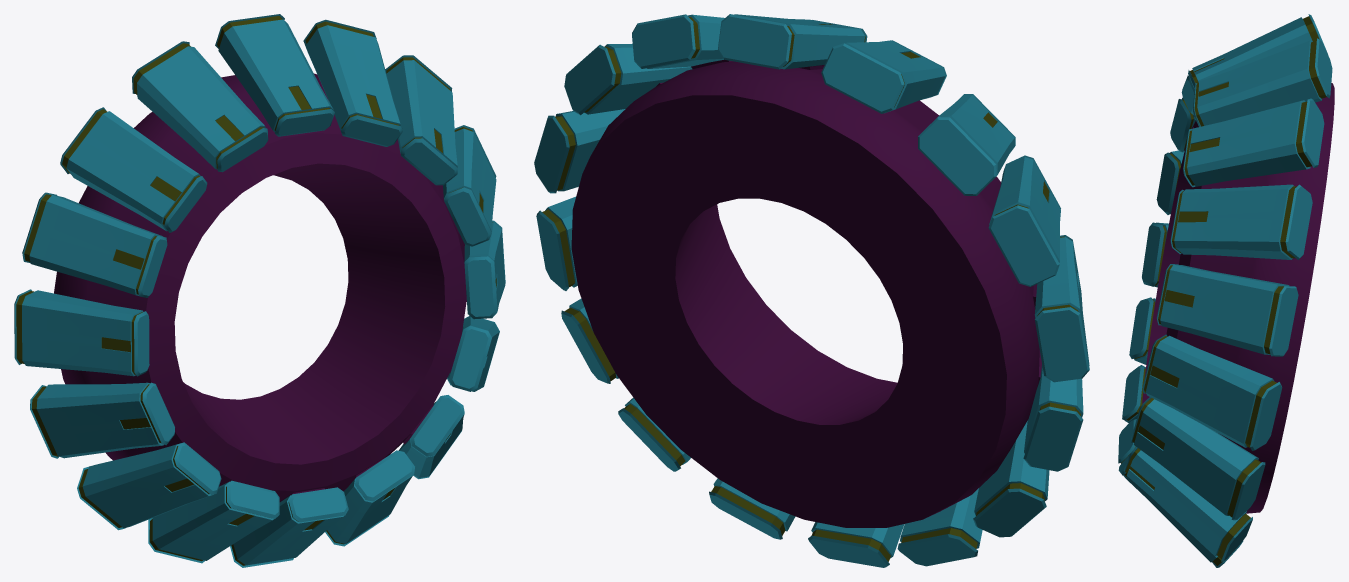
Rendered from New Gun Magazine 1.fbx.
The picture shows the model from 3 angles, left to right: view 1: azimuth 30°, elevation 25°; view 2: azimuth 150°, elevation 25°; view 3: azimuth 270°, elevation 25°; orthographic projection. The views are drawn at different scales.
Visible parts, largest first — view 1: Magazines; view 2: Magazines; view 3: Magazines.
Boxes of the visible parts, box(x1,y1,x2,y2) form: Magazines: box(14, 14, 505, 567); Magazines: box(534, 14, 1089, 567); Magazines: box(1118, 14, 1334, 567).
Bounding box in the file's own units: 27.94 × 27.85 × 10.98.
